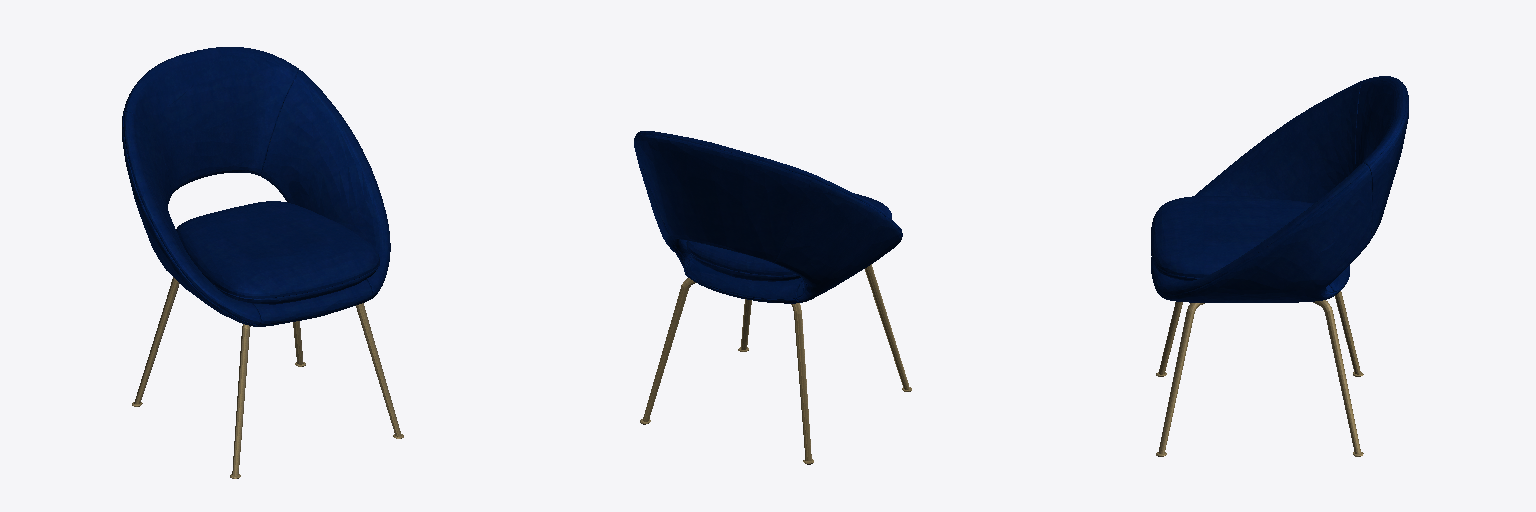
3 views of the same model, side by side, from view 1: azimuth 30°, elevation 25°; view 2: azimuth 150°, elevation 25°; view 3: azimuth 270°, elevation 25° (orthographic).
Visible parts, largest first — view 1: solid_001, solid_002; view 2: solid_001, solid_002; view 3: solid_001, solid_002.
Boxes of the visible parts, box(x1,y1,x2,y2) form: solid_001: box(122, 47, 390, 326); solid_002: box(132, 277, 403, 478); solid_001: box(634, 131, 902, 303); solid_002: box(640, 264, 911, 463); solid_001: box(1151, 76, 1408, 302); solid_002: box(1156, 291, 1363, 456).
Bounding box in the file's own units: 0.6444 × 0.8777 × 0.6471.
Materials: 1 (1 with a texture image).